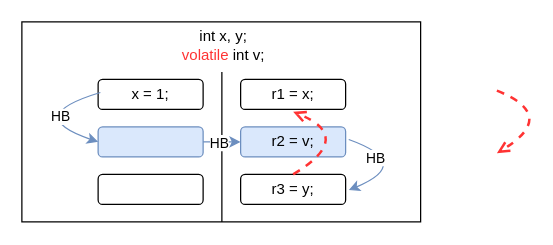
Some shapes in this 553 by 245 pixel diagram are drawn without their labels. The centre of each missing label's shape, as x and y in pixels:
"v = 1;" belongs at point (150, 141).
"y = 1;" belongs at point (150, 188).
